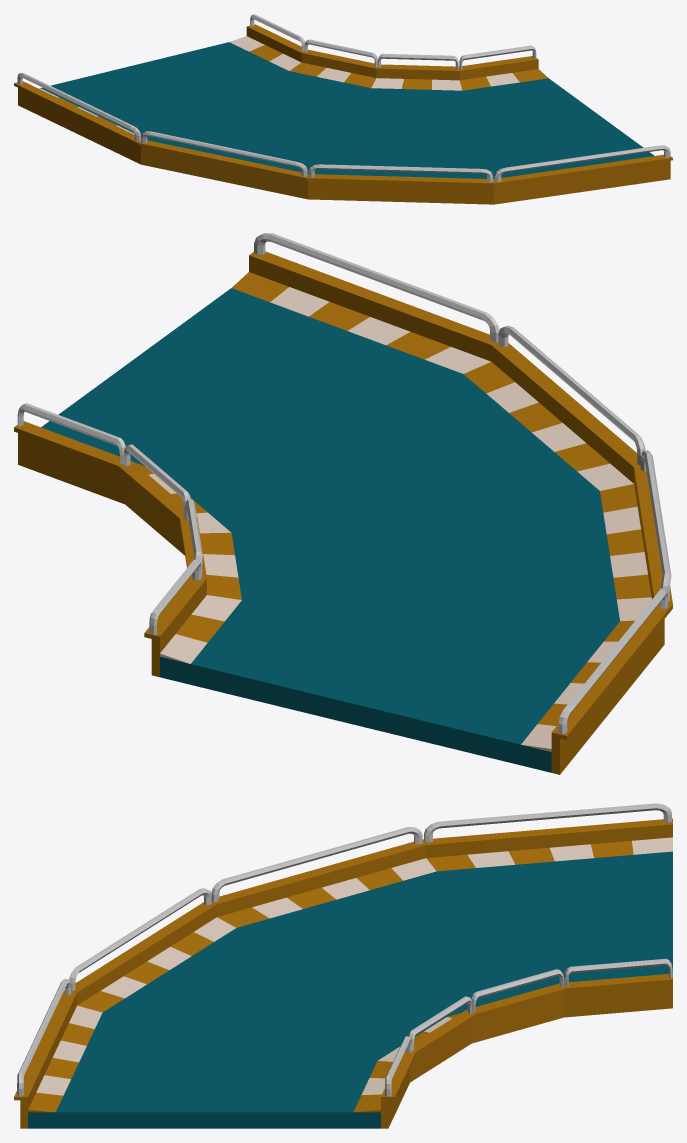
The model's file is curveLeft-90_m.FBX.
3 renders of one model, top to bottom at view 1: azimuth 30°, elevation 25°; view 2: azimuth 150°, elevation 25°; view 3: azimuth 270°, elevation 25°, orthographic. The views are drawn at different scales.
Parts seen in each view (by area): view 1: curveLeft-90_m, wall_r, wall_l, curbs_l; view 2: curveLeft-90_m, wall_r, curbs_r, wall_l, curbs_l; view 3: curveLeft-90_m, wall_r, curbs_r, wall_l, curbs_l.
Boxes of the visible parts, bbox=[...] form: curveLeft-90_m: bbox=[40, 42, 654, 178]; wall_r: bbox=[14, 72, 672, 204]; wall_l: bbox=[246, 14, 538, 80]; curbs_l: bbox=[229, 36, 548, 90]; curveLeft-90_m: bbox=[41, 288, 619, 772]; wall_r: bbox=[249, 233, 672, 774]; curbs_r: bbox=[232, 272, 651, 751]; wall_l: bbox=[14, 403, 206, 677]; curbs_l: bbox=[134, 462, 241, 663]; curveLeft-90_m: bbox=[28, 851, 672, 1128]; wall_r: bbox=[14, 803, 672, 1128]; curbs_r: bbox=[28, 837, 672, 1112]; wall_l: bbox=[381, 958, 672, 1128]; curbs_l: bbox=[353, 1013, 460, 1112].
Size of what is drawn, in the model's own units: 358 by 29.31 by 358.
